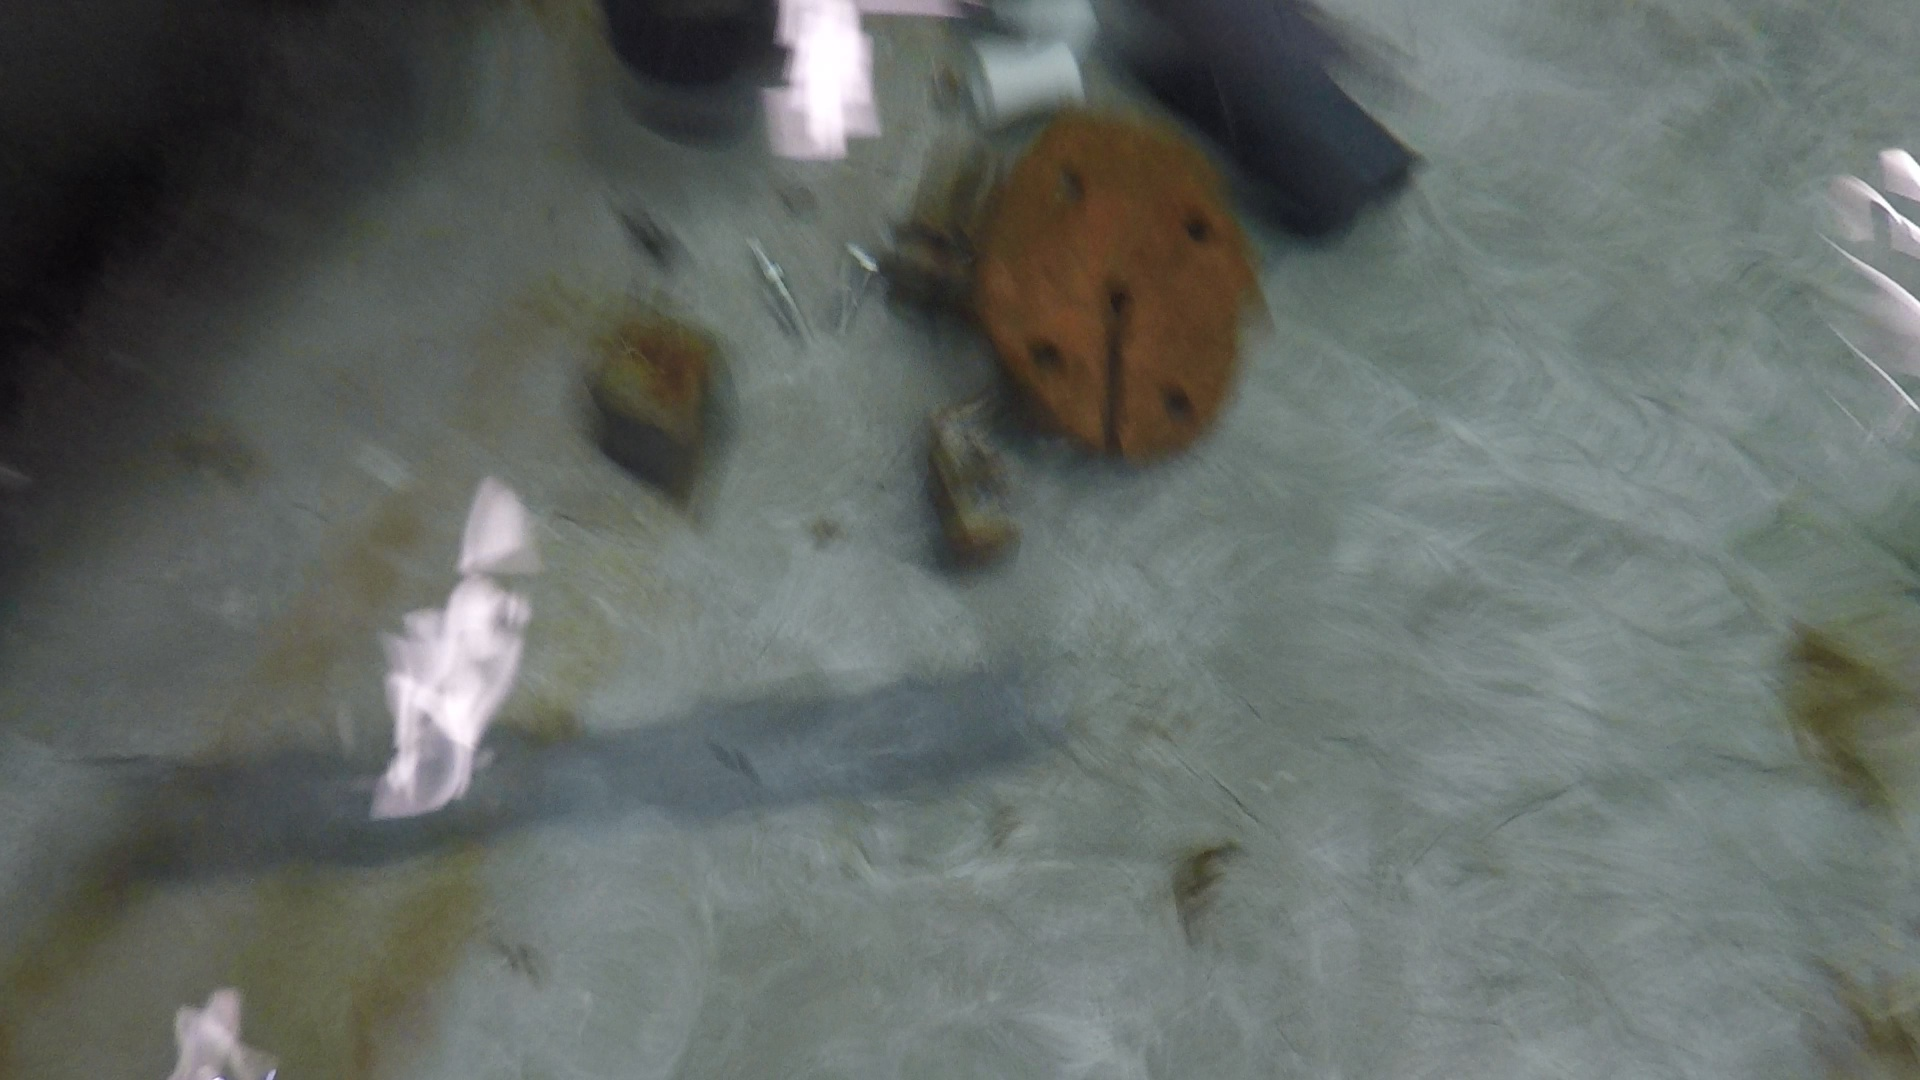bolt: (746, 237, 818, 361), (836, 248, 876, 348)
flange: (971, 111, 1247, 468)
led_block: (580, 284, 735, 517), (894, 133, 985, 339), (919, 400, 1019, 583)
pipe: (133, 670, 1054, 877), (956, 36, 1095, 123)
